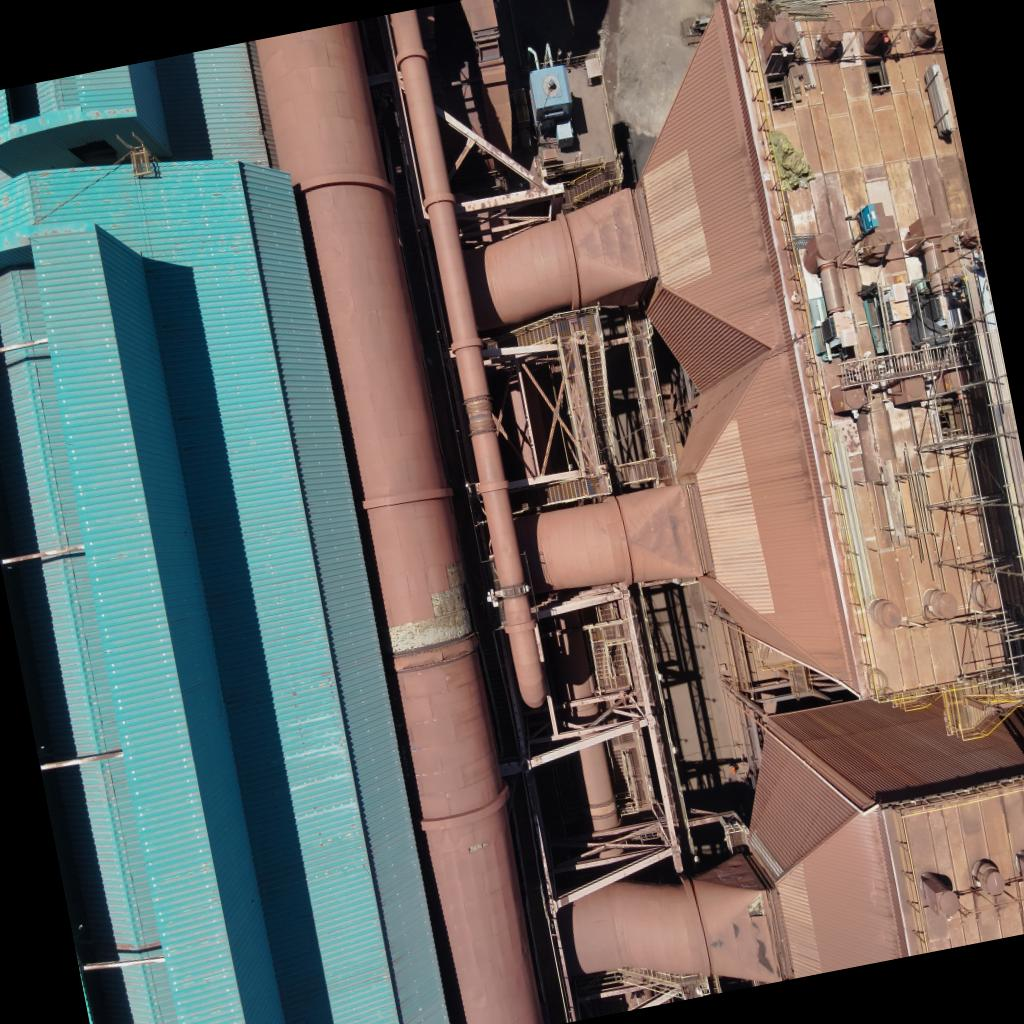Failures: (372, 560, 480, 660), (746, 892, 768, 921), (466, 839, 490, 854)
